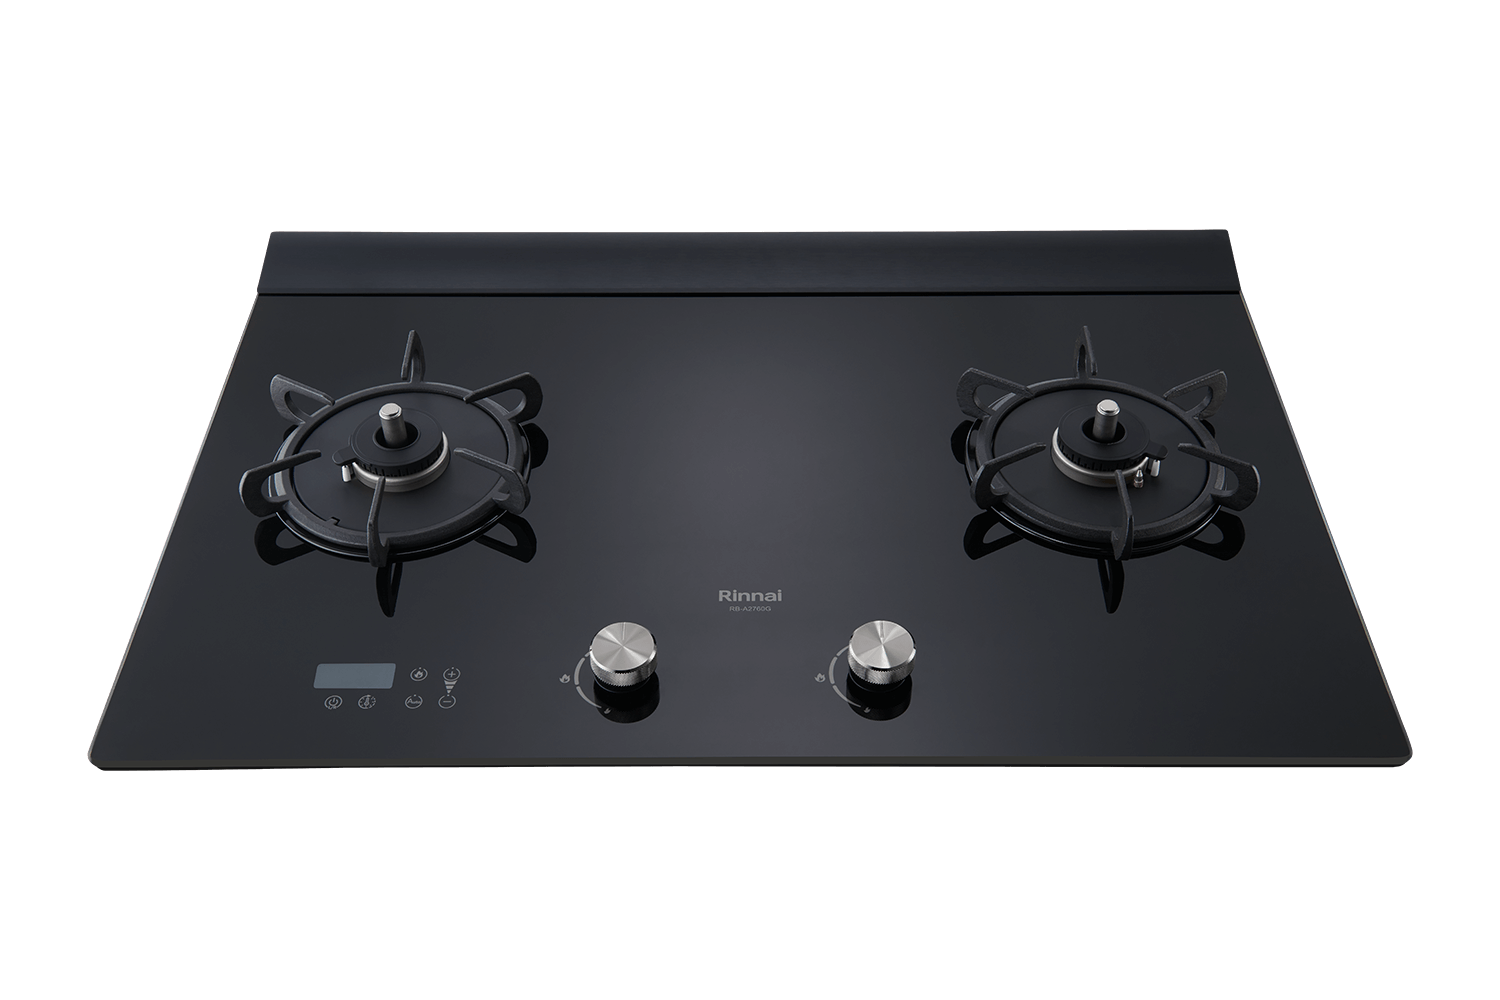gasoven: (81, 223, 1420, 787)
